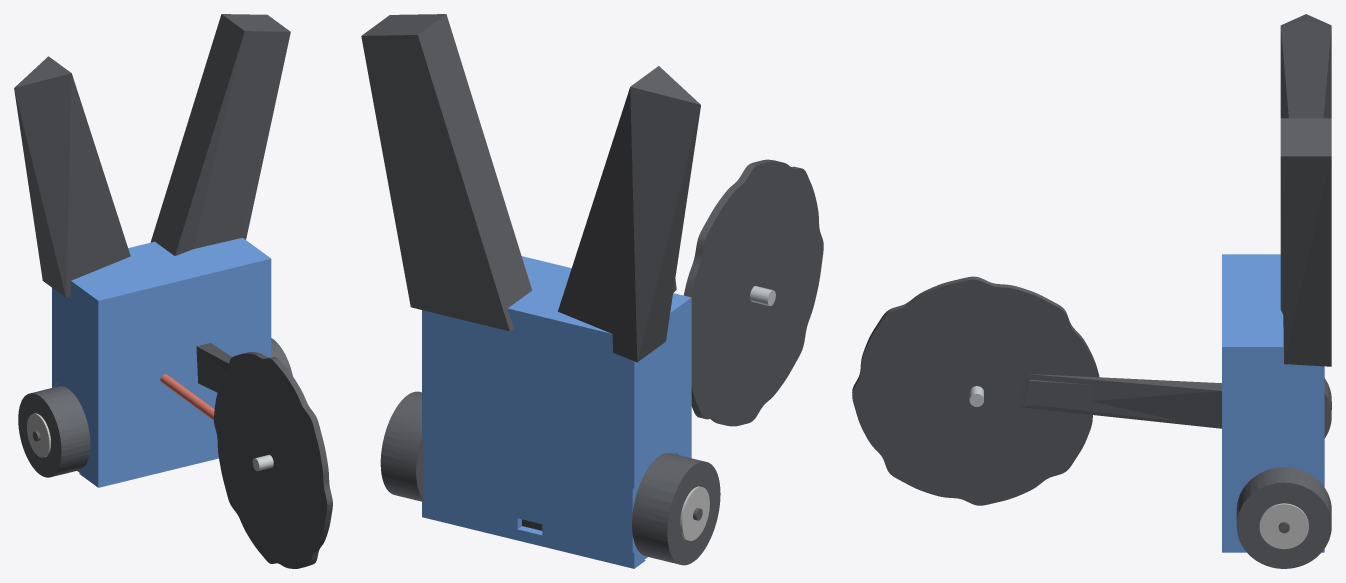
The model's file is i_saw_that.glb.
3 renders of one model, left to right at view 1: azimuth 30°, elevation 25°; view 2: azimuth 150°, elevation 25°; view 3: azimuth 270°, elevation 25°, orthographic. The views are drawn at different scales.
Visible parts, largest first — view 1: chassis, jaw_l, weapon, jaw_r, wheel_r0, arm, dt_hub_wheel_r0, lock_pin; view 2: chassis, jaw_l, weapon, jaw_r, wheel_r0, wheel_l0, dt_hub_wheel_r0; view 3: weapon, chassis, jaw_l, arm, wheel_l0, jaw_r, dt_hub_wheel_l0.
Part boxes in pixels (x1,y1,x2,y2): chassis: [52, 238, 271, 487]; jaw_l: [150, 14, 290, 255]; weapon: [214, 352, 332, 568]; jaw_r: [14, 56, 130, 297]; wheel_r0: [18, 386, 90, 477]; arm: [196, 343, 231, 392]; dt_hub_wheel_r0: [27, 413, 50, 457]; lock_pin: [160, 374, 214, 420]; chassis: [422, 256, 691, 568]; jaw_l: [361, 14, 532, 331]; weapon: [683, 159, 823, 426]; jaw_r: [558, 66, 700, 362]; wheel_r0: [632, 453, 720, 565]; wheel_l0: [380, 391, 423, 501]; dt_hub_wheel_r0: [680, 486, 709, 540]; weapon: [852, 276, 1099, 505]; chassis: [1222, 254, 1324, 552]; jaw_l: [1280, 118, 1331, 366]; arm: [1017, 373, 1221, 428]; wheel_l0: [1236, 467, 1331, 568]; jaw_r: [1280, 14, 1331, 118]; dt_hub_wheel_l0: [1259, 503, 1308, 549].
Size of the model in its own units: 92 by 134 by 131.
